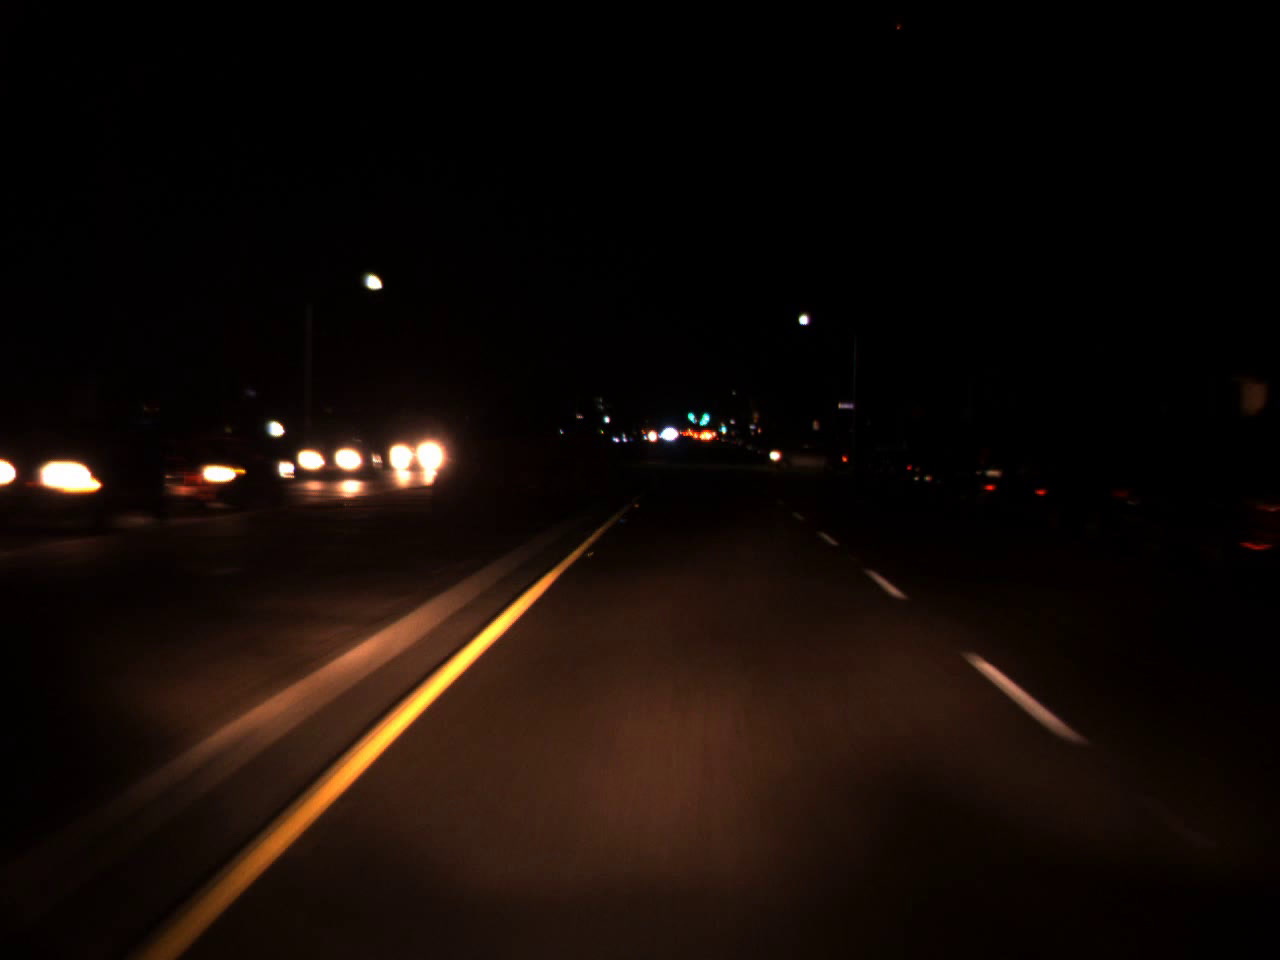go: (695, 403, 713, 424), (683, 401, 695, 422), (719, 422, 726, 434)
